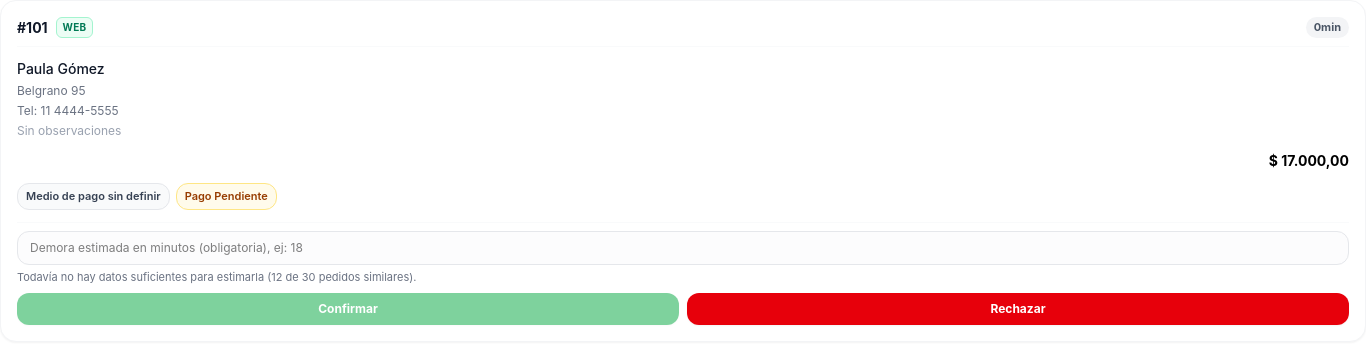
ComandaCard › al refrescar la estimación en segundo plano no parpadea ni pierde lo que escribió el empleado
Type "35" into the number field labelled "Demora estimada en minutos". click: [683, 248]
box: [17, 230, 1349, 264]
Wait 15100 ms
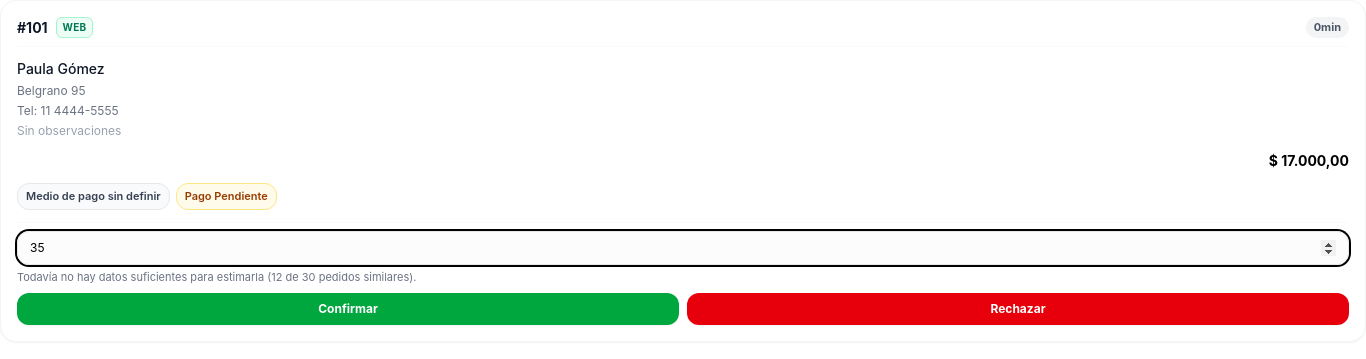
Now the button "Confirmar" is enabled, box [17, 293, 679, 325]
